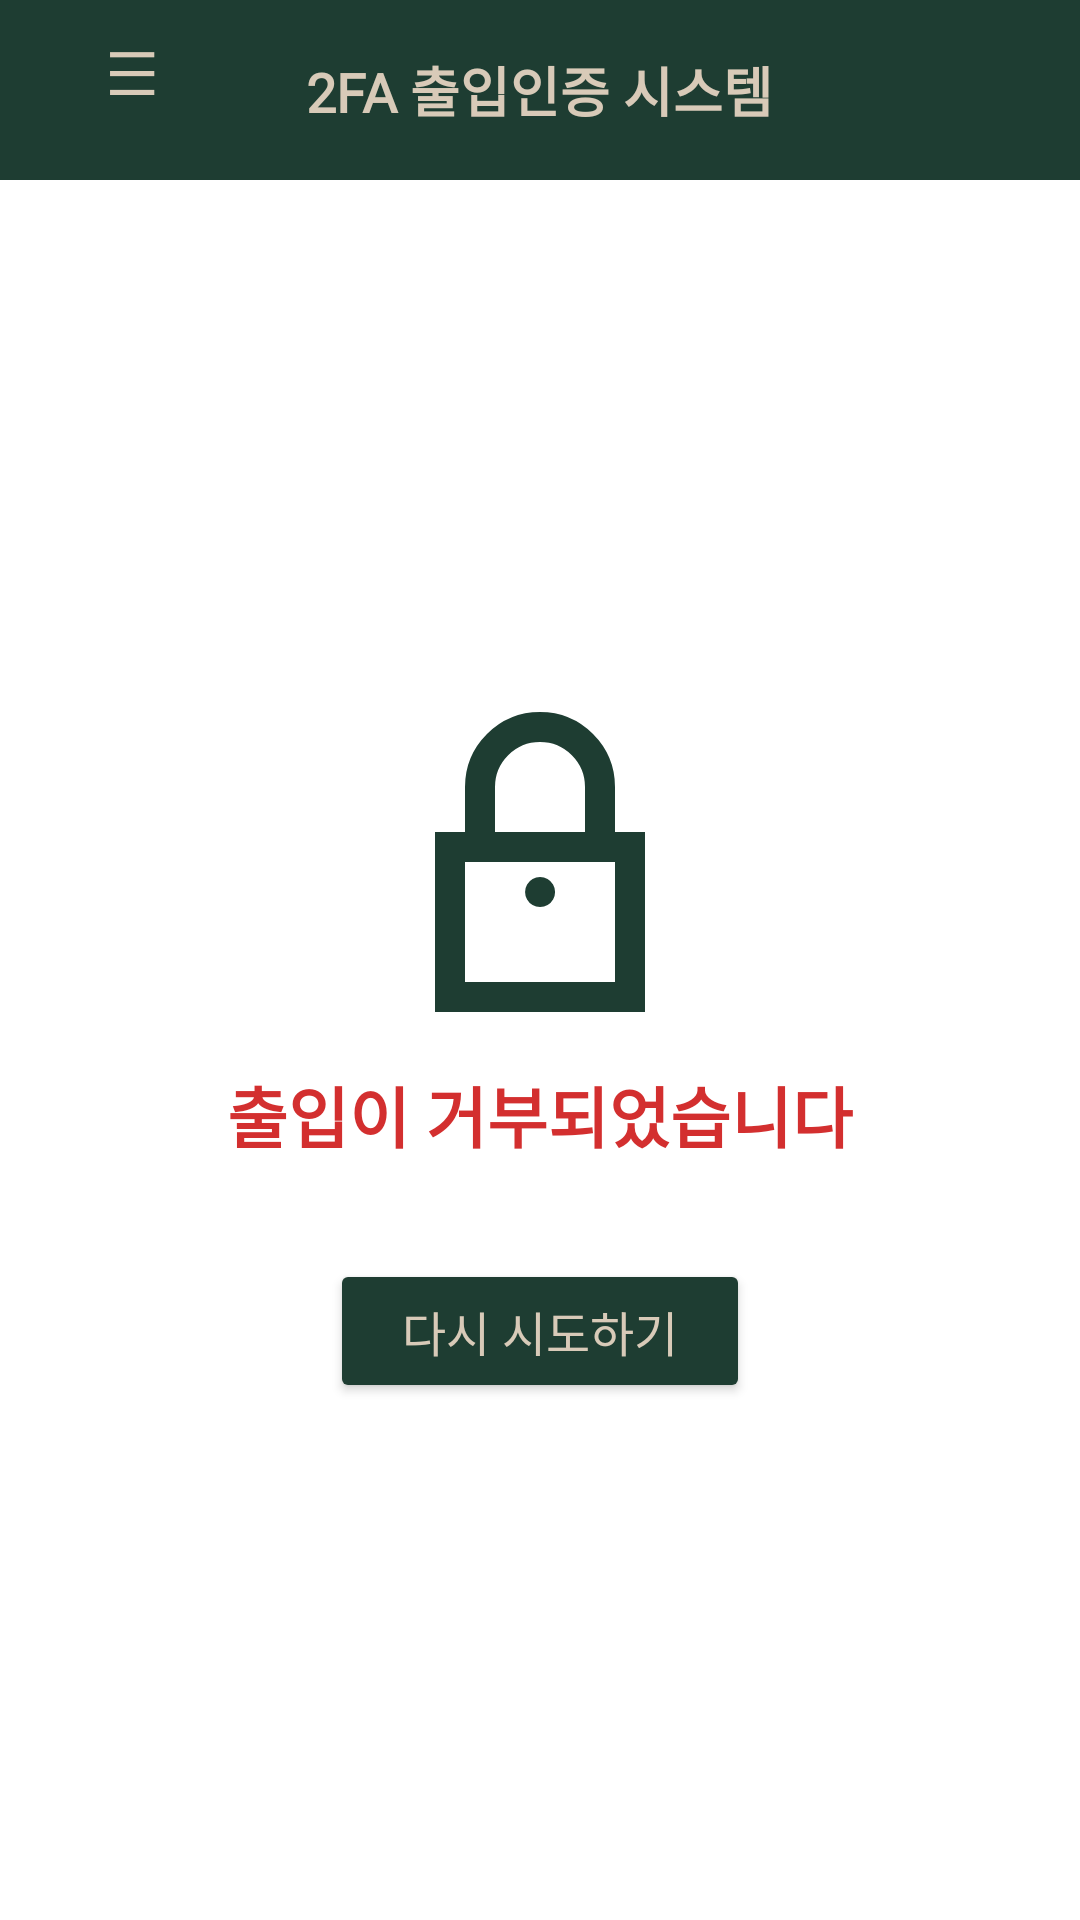

Locate icon controls on the screen. Image size 1080 x 1920, boxes as (x1, y1, x2, y2).
자물쇠 아이콘: (435, 712, 645, 1012)
